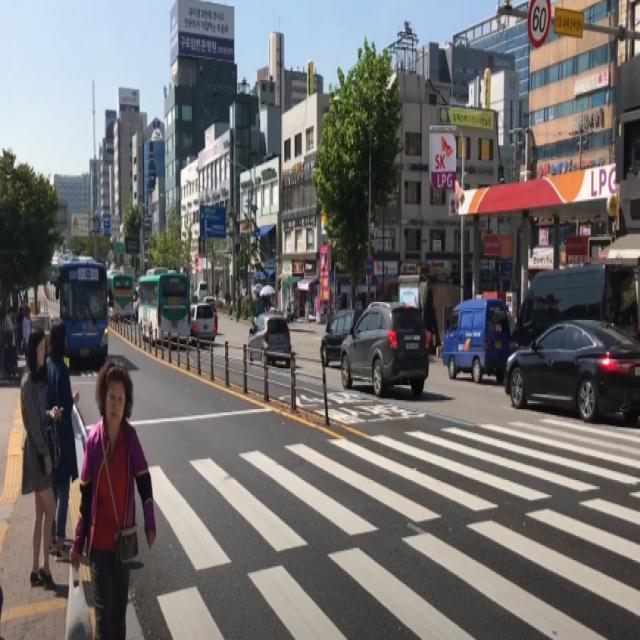bus-number: (69, 269, 78, 281)
